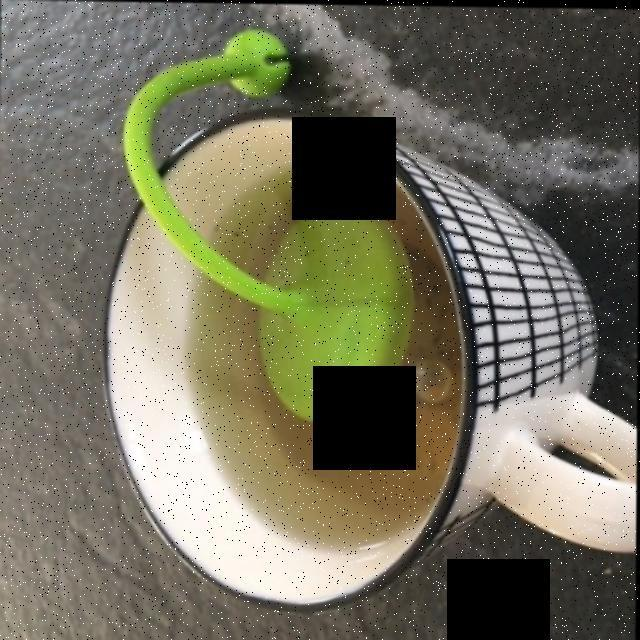tea: (192, 203, 454, 545)
